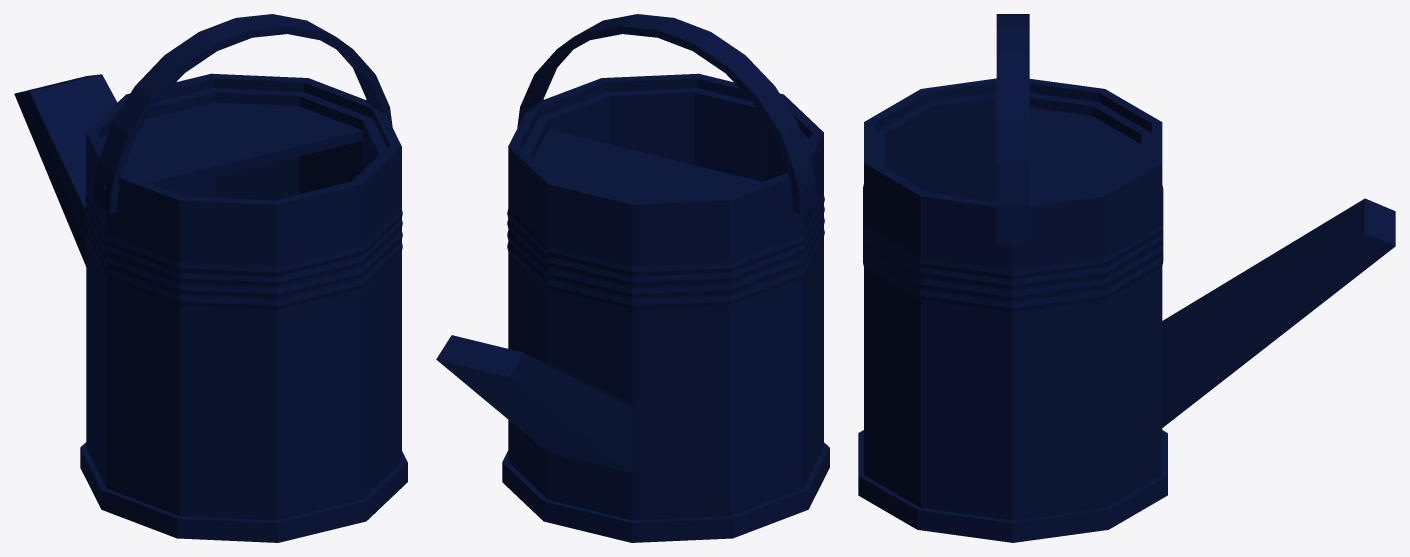
Rendered from Watering_Can.fbx.
3 views of the same model, side by side, from view 1: azimuth 30°, elevation 25°; view 2: azimuth 150°, elevation 25°; view 3: azimuth 270°, elevation 25° (orthographic).
Parts seen in each view (by area): view 1: Watering_Can001; view 2: Watering_Can001; view 3: Watering_Can001.
Boxes of the visible parts, bbox=[...] form: Watering_Can001: bbox=[14, 14, 407, 542]; Watering_Can001: bbox=[436, 14, 829, 542]; Watering_Can001: bbox=[858, 14, 1395, 542].
Bounding box in the file's own units: 241 × 364 × 398.
